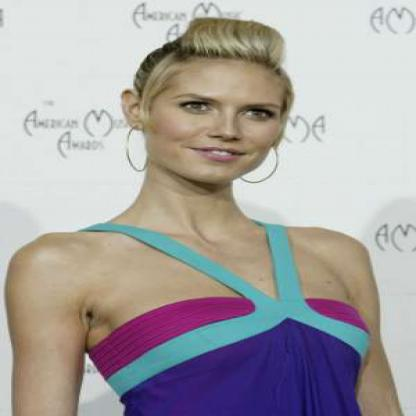face: (144, 36, 289, 187)
